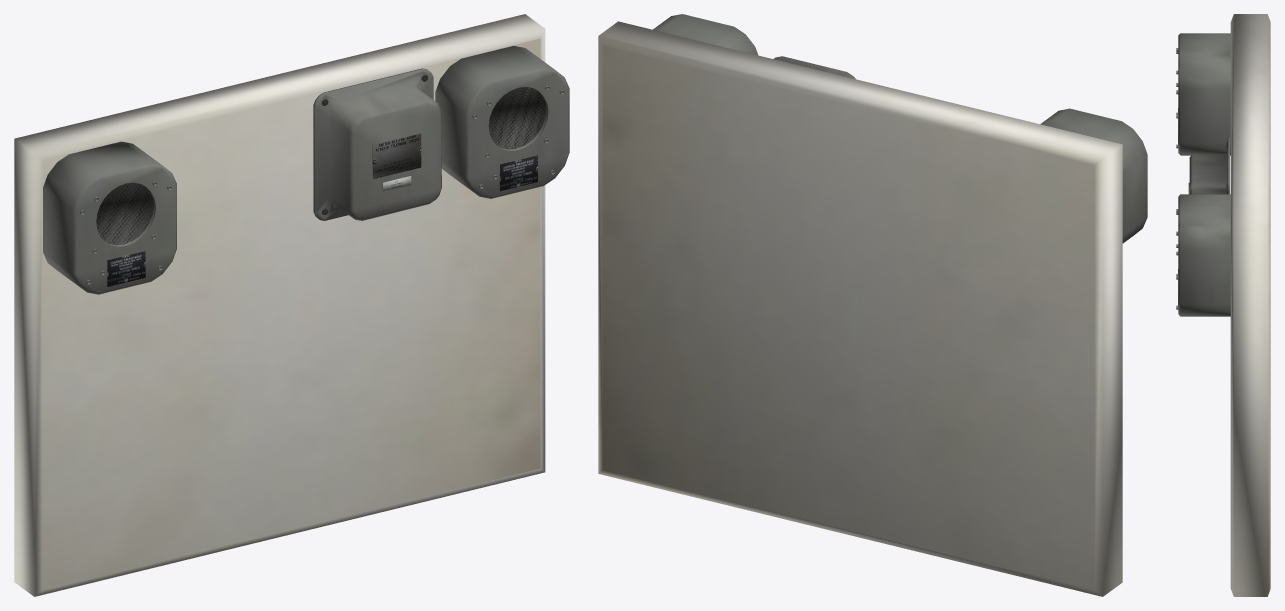
File: Comm Wall.obj
3 renders of one model, left to right at view 1: azimuth 30°, elevation 25°; view 2: azimuth 150°, elevation 25°; view 3: azimuth 270°, elevation 25°, orthographic. The views are drawn at different scales.
Visible parts, largest first — view 1: Default; view 2: Default; view 3: Default.
Part boxes in pixels (<box>): Default: <box>14,14,569,596</box>; Default: <box>598,14,1147,596</box>; Default: <box>1176,14,1270,596</box>.
Bounding box in the file's own units: 16.9 × 14.03 × 3.22.
